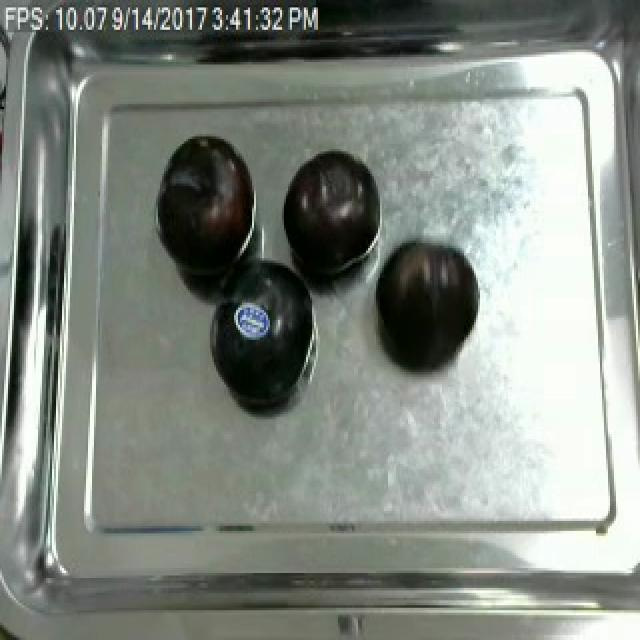Fruit: (208, 243, 318, 412), (150, 131, 262, 283), (370, 233, 484, 377), (276, 144, 382, 285)
